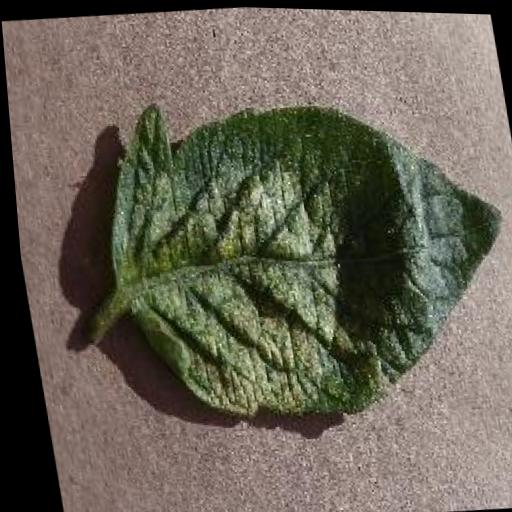Spider Mites: (81, 70, 512, 437)
